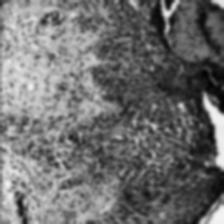Non-Cancerous Skin Condition: (132, 0, 222, 213), (0, 105, 67, 224)
